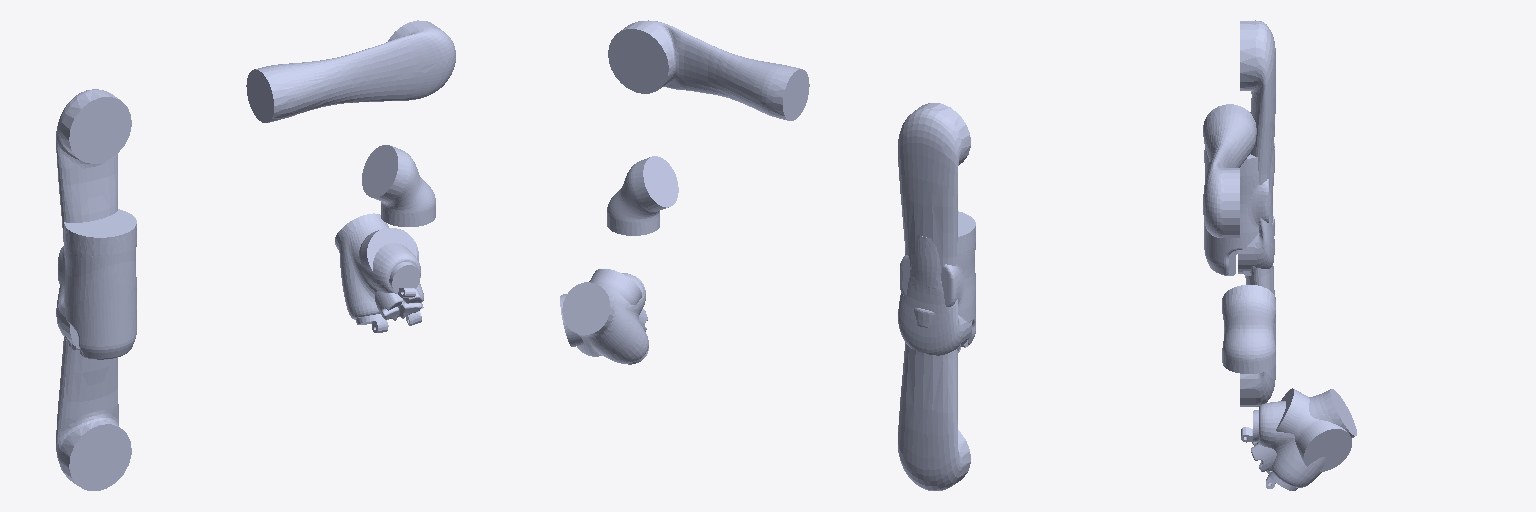
robot.urdf — jaco:
<?xml version="1.0" ?>
<!-- =================================================================================== -->
<!-- |    This document was autogenerated by xacro from standalone_jaco2.xacro         | -->
<!-- |    EDITING THIS FILE BY HAND IS NOT RECOMMENDED                                 | -->
<!-- =================================================================================== -->
<robot name="jaco" xmlns:body="http://playerstage.sourceforge.net/gazebo/xmlschema/#body" xmlns:controller="http://playerstage.sourceforge.net/gazebo/xmlschema/#controller" xmlns:gazebo="http://playerstage.sourceforge.net/gazebo/xmlschema/#gz" xmlns:geom="http://playerstage.sourceforge.net/gazebo/xmlschema/#geom" xmlns:interface="http://playerstage.sourceforge.net/gazebo/xmlschema/#interface" xmlns:joint="http://playerstage.sourceforge.net/gazebo/xmlschema/#joint" xmlns:model="http://playerstage.sourceforge.net/gazebo/xmlschema/#model" xmlns:physics="http://playerstage.sourceforge.net/gazebo/xmlschema/#physics" xmlns:renderable="http://playerstage.sourceforge.net/gazebo/xmlschema/#renderable" xmlns:rendering="http://playerstage.sourceforge.net/gazebo/xmlschema/#rendering" xmlns:sensor="http://playerstage.sourceforge.net/gazebo/xmlschema/#sensor" xmlns:xacro="http://ros.org/wiki/xacro" xmlns:xi="http://www.w3.org/2001/XInclude">
  <link name="root">
    <visual>
      <origin rpy="0 0 0" xyz="0 0 0"/>
      <geometry>
        <box size="0 0 0"/>
        <!--making it slightly bigger in x and z direction-->
      </geometry>
      <!--<material name="Black" /> -->
    </visual>
    <collision>
      <origin rpy="0 0 0" xyz="0 0 0"/>
      <geometry>
        <box size="0 0 0"/>
        <!--making it slightly bigger in x and z direction-->
      </geometry>
    </collision>
  </link>
  <link name="jaco2_link_base">
    <visual>
      <geometry>
        <mesh filename="package://kinova_description/meshes/jaco2_link_base.STL"/>
      </geometry>
      <material name="carbon_fiber">
        <color rgba="0.792156862745098 0.819607843137255 0.933333333333333 1"/>
      </material>
    </visual>
    <collision>
      <geometry>
        <mesh filename="package://kinova_description/meshes/jaco2_link_base.STL"/>
      </geometry>
    </collision>
  </link>
  <joint name="jaco2_joint_base" type="fixed">
    <parent link="root"/>
    <child link="jaco2_link_base"/>
    <axis xyz="0 0 0"/>
    <limit effort="30" lower="0" upper="0" velocity="0.35"/>
    <origin rpy="0 0 0" xyz="0 0 0"/>
  </joint>
  <link name="jaco2_link_1">
    <visual>
      <geometry>
        <mesh filename="package://kinova_description/meshes/jaco2_link_1.STL"/>
      </geometry>
      <material name="carbon_fiber">
        <color rgba="0.792156862745098 0.819607843137255 0.933333333333333 1"/>
      </material>
    </visual>
    <collision>
      <geometry>
        <mesh filename="package://kinova_description/meshes/jaco2_link_1.STL"/>
      </geometry>
    </collision>
  </link>
  <joint name="jaco2_joint_1" type="continuous">
    <parent link="jaco2_link_base"/>
    <child link="jaco2_link_1"/>
    <axis xyz="0 0 -1"/>
    <limit effort="30" lower="-6.28318530718" upper="6.28318530718" velocity="0.35"/>
    <origin rpy="3.14159265359 0 3.14159265359" xyz="0 0 0.1535"/>
  </joint>
  <link name="jaco2_link_2">
    <visual>
      <geometry>
        <mesh filename="package://kinova_description/meshes/jaco2_link_2.STL"/>
      </geometry>
      <material name="carbon_fiber">
        <color rgba="0.792156862745098 0.819607843137255 0.933333333333333 1"/>
      </material>
    </visual>
    <collision>
      <geometry>
        <mesh filename="package://kinova_description/meshes/jaco2_link_2.STL"/>
      </geometry>
    </collision>
  </link>
  <joint name="jaco2_joint_2" type="revolute">
    <parent link="jaco2_link_1"/>
    <child link="jaco2_link_2"/>
    <axis xyz="0 0 1"/>
    <limit effort="30" lower="-3.14159265359" upper="0.0" velocity="0.35"/>
    <origin rpy="-1.57079632679 3.14159265359 0" xyz="0 0 -0.1185"/>
  </joint>
  <link name="jaco2_link_3">
    <visual>
      <geometry>
        <mesh filename="package://kinova_description/meshes/jaco2_link_3.STL"/>
      </geometry>
      <material name="carbon_fiber">
        <color rgba="0.792156862745098 0.819607843137255 0.933333333333333 1"/>
      </material>
    </visual>
    <collision>
      <geometry>
        <mesh filename="package://kinova_description/meshes/jaco2_link_3.STL"/>
      </geometry>
    </collision>
  </link>
  <joint name="jaco2_joint_3" type="revolute">
    <parent link="jaco2_link_2"/>
    <child link="jaco2_link_3"/>
    <axis xyz="0 0 -1"/>
    <limit effort="30" lower="-3.92699081699" upper="0.785398163397" velocity="0.35"/>
    <origin rpy="3.14159265359 0 1.57079632679" xyz="0.41 0 0"/>
  </joint>
  <link name="jaco2_link_4">
    <visual>
      <geometry>
        <mesh filename="package://kinova_description/meshes/jaco2_link_4.STL"/>
      </geometry>
      <material name="carbon_fiber">
        <color rgba="0.792156862745098 0.819607843137255 0.933333333333333 1"/>
      </material>
    </visual>
    <collision>
      <geometry>
        <mesh filename="package://kinova_description/meshes/jaco2_link_4.STL"/>
      </geometry>
    </collision>
  </link>
  <joint name="jaco2_joint_4" type="continuous">
    <parent link="jaco2_link_3"/>
    <child link="jaco2_link_4"/>
    <axis xyz="0 0 -1"/>
    <limit effort="30" lower="-6.28318530718" upper="6.28318530718" velocity="0.35"/>
    <origin rpy="3.14159265359 1.57079632679 0" xyz="0.207 0 -0.01125"/>
  </joint>
  <link name="jaco2_link_5">
    <visual>
      <geometry>
        <mesh filename="package://kinova_description/meshes/jaco2_link_5.STL"/>
      </geometry>
      <material name="carbon_fiber">
        <color rgba="0.792156862745098 0.819607843137255 0.933333333333333 1"/>
      </material>
    </visual>
    <collision>
      <geometry>
        <mesh filename="package://kinova_description/meshes/jaco2_link_5.STL"/>
      </geometry>
    </collision>
  </link>
  <joint name="jaco2_joint_5" type="continuous">
    <parent link="jaco2_link_4"/>
    <child link="jaco2_link_5"/>
    <axis xyz="0 0 -1"/>
    <limit effort="30" lower="-6.28318530718" upper="6.28318530718" velocity="0.35"/>
    <origin rpy="0 -1.0471975512 0" xyz="0.03700 0 -0.06408"/>
  </joint>
  <link name="jaco2_link_hand">
    <visual>
      <geometry>
        <mesh filename="package://kinova_description/meshes/jaco2_link_hand.STL"/>
      </geometry>
      <material name="carbon_fiber">
        <color rgba="0.792156862745098 0.819607843137255 0.933333333333333 1"/>
      </material>
    </visual>
    <collision>
      <geometry>
        <mesh filename="package://kinova_description/meshes/jaco2_link_hand.STL"/>
      </geometry>
    </collision>
  </link>
  <joint name="jaco2_joint_6" type="continuous">
    <parent link="jaco2_link_5"/>
    <child link="jaco2_link_hand"/>
    <axis xyz="0 0 -1"/>
    <limit effort="30" lower="-6.28318530718" upper="6.28318530718" velocity="0.35"/>
    <origin rpy="-1.0471975512 0 1.57079632679" xyz="0.03700 0 -0.06408"/>
  </joint>
  <joint name="jaco2_link_base_to_api_origin" type="fixed">
    <parent link="jaco2_link_base"/>
    <child link="jaco2_api_origin"/>
    <origin rpy="0 0 0" xyz="0 0 0.028"/>
  </joint>
  <link name="jaco2_api_origin">
    <!--
         <visual>
           <geometry>
             <box xyz="0 0 0" size="0.1 0.1 0.1"/>
           </geometry>
         </visual>
         <collision>
           <geometry>
             <box xyz="0 0 0" size="0.1 0.1 0.1"/>
           </geometry>
         </collision>
         -->
  </link>
  <joint name="jaco2_link_hand_to_end_effector" type="fixed">
    <parent link="jaco2_link_hand"/>
    <child link="jaco2_end_effector"/>
    <origin rpy="0 3.14159265359 0" xyz="0 0 -0.1687"/>
  </joint>
  <link name="jaco2_end_effector"/>
  <link name="finger_proximal_limb_1">
    <visual>
      <geometry>
        <mesh filename="package://kinova_description/meshes/finger_proximal_limb_1.STL"/>
      </geometry>
      <material name="carbon_fiber">
        <color rgba="0.792156862745098 0.819607843137255 0.933333333333333 1"/>
      </material>
    </visual>
    <collision>
      <geometry>
        <mesh filename="package://kinova_description/meshes/finger_proximal_limb_1.STL"/>
      </geometry>
    </collision>
  </link>
  <joint name="jaco2_joint_finger_1" type="revolute">
    <parent link="jaco2_link_hand"/>
    <child link="finger_proximal_limb_1"/>
    <axis xyz="0 0 1"/>
    <origin rpy="-1.7983 1.117 3.1416" xyz="-0.03978 0 -0.10071"/>
    <limit effort="30" lower="0" upper="0.698131700798" velocity="5"/>
  </joint>
  <link name="finger_distal_limb_1">
    <visual>
      <geometry>
        <mesh filename="package://kinova_description/meshes/finger_distal_limb_1.STL"/>
      </geometry>
      <material name="carbon_fiber">
        <color rgba="0.792156862745098 0.819607843137255 0.933333333333333 1"/>
      </material>
    </visual>
    <collision>
      <geometry>
        <mesh filename="package://kinova_description/meshes/finger_distal_limb_1.STL"/>
      </geometry>
    </collision>
  </link>
  <joint name="jaco2_joint_finger_tip_1" type="revolute">
    <parent link="finger_proximal_limb_1"/>
    <child link="finger_distal_limb_1"/>
    <axis xyz="0 0 1"/>
    <origin rpy="0 0 0" xyz="0.035 -0.02595 -0.0025"/>
    <limit effort="30" lower="0" upper="0.698131700798" velocity="5"/>
    <mimic joint="jaco2_joint_finger_1" multiplier="0.0" offset="0.0"/>
  </joint>
  <link name="finger_proximal_limb_2">
    <visual>
      <geometry>
        <mesh filename="package://kinova_description/meshes/finger_proximal_limb_2.STL"/>
      </geometry>
      <material name="carbon_fiber">
        <color rgba="0.792156862745098 0.819607843137255 0.933333333333333 1"/>
      </material>
    </visual>
    <collision>
      <geometry>
        <mesh filename="package://kinova_description/meshes/finger_proximal_limb_2.STL"/>
      </geometry>
    </collision>
  </link>
  <joint name="jaco2_joint_finger_2" type="revolute">
    <parent link="jaco2_link_hand"/>
    <child link="finger_proximal_limb_2"/>
    <axis xyz="0 0 1"/>
    <origin rpy="-1.6222 1.117 -0.23615" xyz="0.03569 -0.0216 -0.10071"/>
    <limit effort="30" lower="0" upper="0.698131700798" velocity="5"/>
  </joint>
  <link name="finger_distal_limb_2">
    <visual>
      <geometry>
        <mesh filename="package://kinova_description/meshes/finger_distal_limb_2.STL"/>
      </geometry>
      <material name="carbon_fiber">
        <color rgba="0.792156862745098 0.819607843137255 0.933333333333333 1"/>
      </material>
    </visual>
    <collision>
      <geometry>
        <mesh filename="package://kinova_description/meshes/finger_distal_limb_2.STL"/>
      </geometry>
    </collision>
  </link>
  <joint name="jaco2_joint_finger_tip_2" type="revolute">
    <parent link="finger_proximal_limb_2"/>
    <child link="finger_distal_limb_2"/>
    <axis xyz="0 0 1"/>
    <origin rpy="0 0 0" xyz="0.035 -0.02595 -0.0025"/>
    <limit effort="30" lower="0" upper="0.698131700798" velocity="5"/>
    <mimic joint="jaco2_joint_finger_2" multiplier="0.0" offset="0.0"/>
  </joint>
  <link name="finger_proximal_limb_3">
    <visual>
      <geometry>
        <mesh filename="package://kinova_description/meshes/finger_proximal_limb_3.STL"/>
      </geometry>
      <material name="carbon_fiber">
        <color rgba="0.792156862745098 0.819607843137255 0.933333333333333 1"/>
      </material>
    </visual>
    <collision>
      <geometry>
        <mesh filename="package://kinova_description/meshes/finger_proximal_limb_3.STL"/>
      </geometry>
    </collision>
  </link>
  <joint name="jaco2_joint_finger_3" type="revolute">
    <parent link="jaco2_link_hand"/>
    <child link="finger_proximal_limb_3"/>
    <axis xyz="0 0 1"/>
    <origin rpy="-1.5161 1.1459 0.23978" xyz="0.03569 0.0216 -0.10071"/>
    <limit effort="30" lower="0" upper="0.698131700798" velocity="5"/>
  </joint>
  <link name="finger_distal_limb_3">
    <visual>
      <geometry>
        <mesh filename="package://kinova_description/meshes/finger_distal_limb_3.STL"/>
      </geometry>
      <material name="carbon_fiber">
        <color rgba="0.792156862745098 0.819607843137255 0.933333333333333 1"/>
      </material>
    </visual>
    <collision>
      <geometry>
        <mesh filename="package://kinova_description/meshes/finger_distal_limb_3.STL"/>
      </geometry>
    </collision>
  </link>
  <joint name="jaco3_joint_finger_tip_3" type="revolute">
    <parent link="finger_proximal_limb_3"/>
    <child link="finger_distal_limb_3"/>
    <axis xyz="0 0 1"/>
    <origin rpy="0 0 0" xyz="0.035 -0.02595 -0.0025"/>
    <limit effort="30" lower="0" upper="0.698131700798" velocity="5"/>
    <mimic joint="jaco2_joint_finger_3" multiplier="0.0" offset="0.0"/>
  </joint>
</robot>

--- What the picture shows (computed from the rendered views, not written in the file) ---
3 views of the same robot in one strip: view 1: azimuth 30°, elevation 25°; view 2: azimuth 150°, elevation 25°; view 3: azimuth 270°, elevation 25° (orthographic).
Model jaco with 16 links and 15 joints (8 revolute, 4 continuous, 3 fixed), rooted at root, posed every joint at zero.
Visible links, largest first — view 1: jaco2_link_2, jaco2_link_3, jaco2_link_base, jaco2_link_hand, jaco2_link_4, jaco2_link_5, jaco2_link_1; view 2: jaco2_link_2, jaco2_link_3, jaco2_link_hand, jaco2_link_1, jaco2_link_4, jaco2_link_base, jaco2_link_5; view 3: jaco2_link_2, jaco2_link_3, jaco2_link_hand, jaco2_link_4, jaco2_link_base, jaco2_link_5, jaco2_link_1.
Boxes of the visible links, box(x1,y1,x2,y2) form: jaco2_link_2: box(56, 89, 131, 490); jaco2_link_3: box(246, 20, 455, 122); jaco2_link_base: box(58, 209, 136, 359); jaco2_link_hand: box(335, 213, 423, 332); jaco2_link_4: box(362, 145, 435, 226); jaco2_link_5: box(359, 228, 418, 270); jaco2_link_1: box(56, 227, 136, 348); jaco2_link_2: box(898, 103, 970, 490); jaco2_link_3: box(608, 20, 809, 120); jaco2_link_hand: box(562, 273, 648, 364); jaco2_link_1: box(898, 234, 975, 355); jaco2_link_4: box(607, 156, 678, 235); jaco2_link_base: box(900, 211, 975, 352); jaco2_link_5: box(560, 269, 641, 346); jaco2_link_2: box(1240, 20, 1275, 406); jaco2_link_3: box(1203, 104, 1256, 237); jaco2_link_hand: box(1241, 389, 1356, 490); jaco2_link_4: box(1222, 285, 1275, 373); jaco2_link_base: box(1204, 143, 1274, 275); jaco2_link_5: box(1276, 388, 1351, 471); jaco2_link_1: box(1204, 148, 1274, 273).
Size in the robot's own frame: 0.504 by 0.1809 by 0.4925 metres.
Meshes: 13 distinct files referenced, 7 mesh visuals loaded (7 binary STL); not drawn: 6 (reference not matched to a file when rendering).